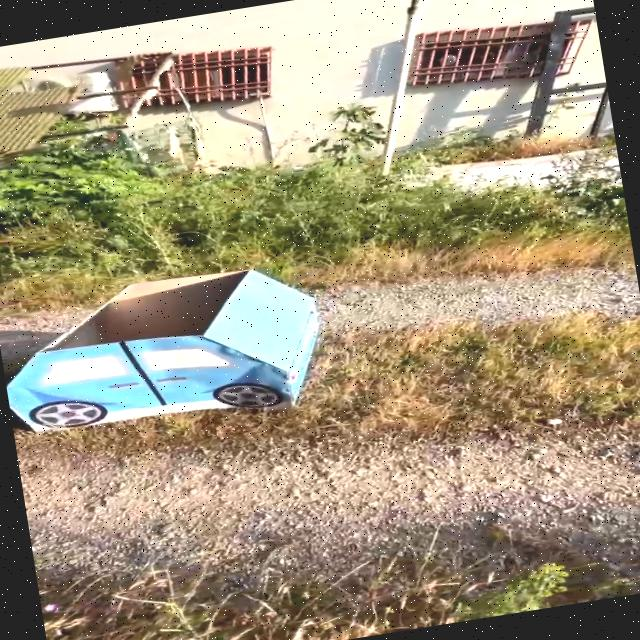blue_car: (0, 226, 377, 486)
